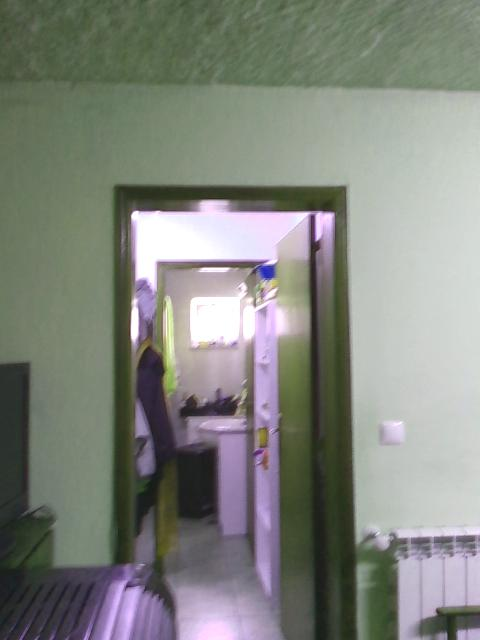open_door: (110, 180, 357, 638)
